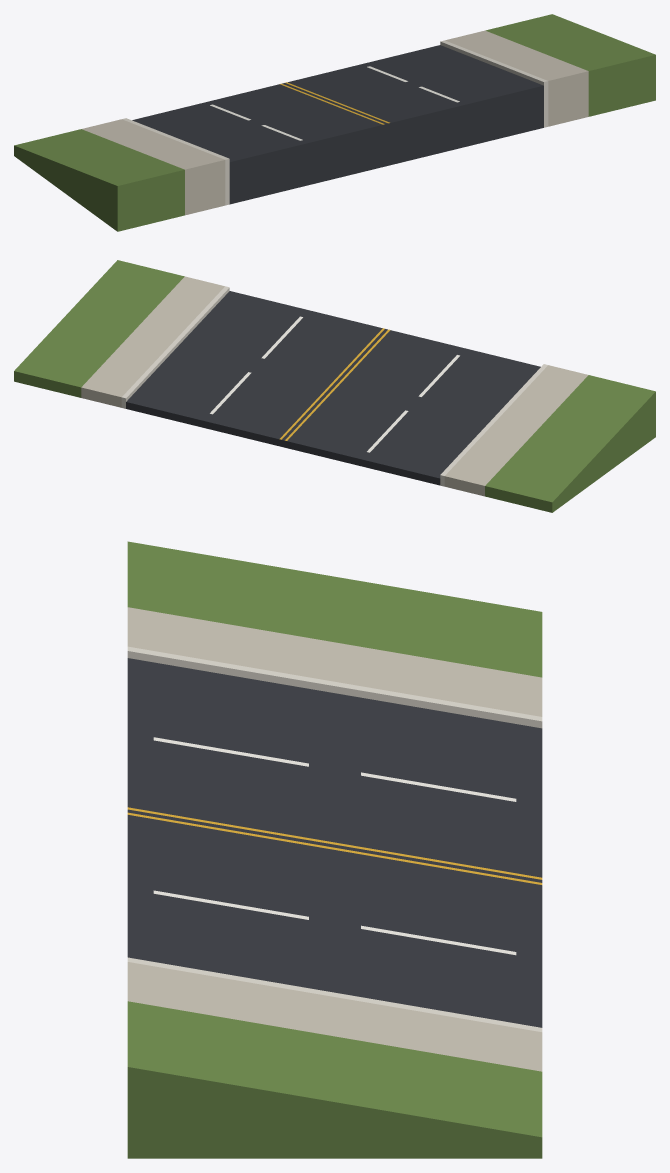
The model's file is Road_4Lane_Sidewalk_Slope_Up_8m.glb.
The picture shows the model from 3 angles, top to bottom: view 1: azimuth 30°, elevation 25°; view 2: azimuth 150°, elevation 25°; view 3: azimuth 270°, elevation 25°; orthographic projection. The views are drawn at different scales.
Parts seen in each view (by area): view 1: Road_4Lane_Sidewalk_Slope_Up_8m_Asphalt, Road_4Lane_Sidewalk_Slope_Up_8m_Grass-edge, Road_4Lane_Sidewalk_Slope_Up_8m_Sidewalk, Road_4Lane_Sidewalk_Slope_Up_8m_Curb, Road_4Lane_Sidewalk_Slope_Up_8m_PaintWhite, Road_4Lane_Sidewalk_Slope_Up_8m_PaintYellow; view 2: Road_4Lane_Sidewalk_Slope_Up_8m_Asphalt, Road_4Lane_Sidewalk_Slope_Up_8m_Grass-edge, Road_4Lane_Sidewalk_Slope_Up_8m_Sidewalk, Road_4Lane_Sidewalk_Slope_Up_8m_Curb, Road_4Lane_Sidewalk_Slope_Up_8m_PaintWhite, Road_4Lane_Sidewalk_Slope_Up_8m_PaintYellow; view 3: Road_4Lane_Sidewalk_Slope_Up_8m_Asphalt, Road_4Lane_Sidewalk_Slope_Up_8m_Grass-edge, Road_4Lane_Sidewalk_Slope_Up_8m_Sidewalk, Road_4Lane_Sidewalk_Slope_Up_8m_Curb, Road_4Lane_Sidewalk_Slope_Up_8m_PaintWhite, Road_4Lane_Sidewalk_Slope_Up_8m_PaintYellow.
Boxes of the visible parts, x1,y1,x2,y2 form: Road_4Lane_Sidewalk_Slope_Up_8m_Asphalt: (132, 45, 543, 204); Road_4Lane_Sidewalk_Slope_Up_8m_Grass-edge: (14, 14, 655, 231); Road_4Lane_Sidewalk_Slope_Up_8m_Sidewalk: (82, 30, 588, 215); Road_4Lane_Sidewalk_Slope_Up_8m_Curb: (122, 40, 548, 205); Road_4Lane_Sidewalk_Slope_Up_8m_PaintWhite: (210, 66, 459, 140); Road_4Lane_Sidewalk_Slope_Up_8m_PaintYellow: (279, 82, 389, 124); Road_4Lane_Sidewalk_Slope_Up_8m_Asphalt: (126, 291, 540, 485); Road_4Lane_Sidewalk_Slope_Up_8m_Grass-edge: (14, 260, 655, 512); Road_4Lane_Sidewalk_Slope_Up_8m_Sidewalk: (81, 276, 588, 496); Road_4Lane_Sidewalk_Slope_Up_8m_Curb: (121, 286, 547, 486); Road_4Lane_Sidewalk_Slope_Up_8m_PaintWhite: (210, 316, 459, 452); Road_4Lane_Sidewalk_Slope_Up_8m_PaintYellow: (279, 328, 390, 440); Road_4Lane_Sidewalk_Slope_Up_8m_Asphalt: (127, 658, 542, 1027); Road_4Lane_Sidewalk_Slope_Up_8m_Grass-edge: (127, 541, 542, 1158); Road_4Lane_Sidewalk_Slope_Up_8m_Sidewalk: (127, 607, 542, 1071); Road_4Lane_Sidewalk_Slope_Up_8m_Curb: (127, 646, 542, 1031); Road_4Lane_Sidewalk_Slope_Up_8m_PaintWhite: (153, 737, 516, 955); Road_4Lane_Sidewalk_Slope_Up_8m_PaintYellow: (127, 807, 542, 884).
Size of the model in its own units: 24 by 1.95 by 8.
